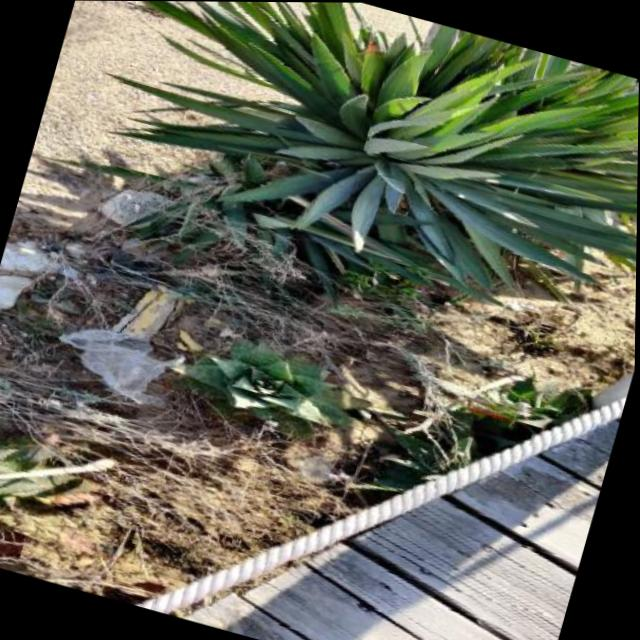plastic: (45, 309, 192, 413)
